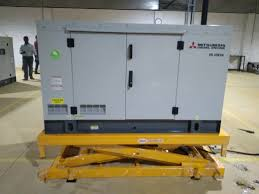Scissor Lift: (37, 129, 231, 185)
